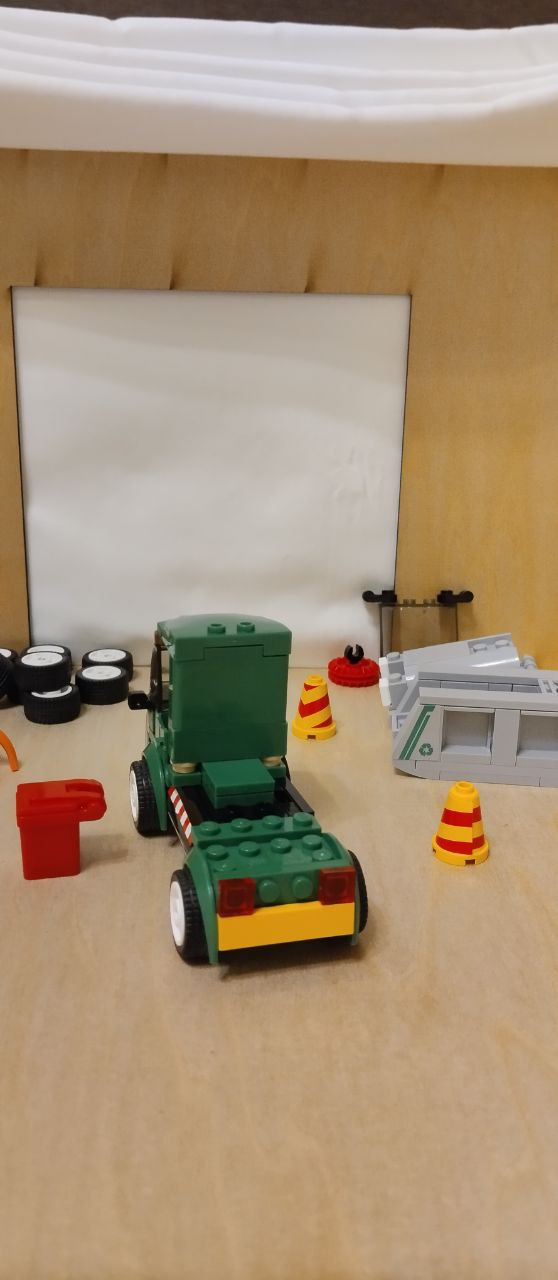Cone: (425, 779, 501, 868), (289, 669, 341, 741)
Object Red: (5, 777, 111, 884)
Truck: (126, 610, 377, 974)
